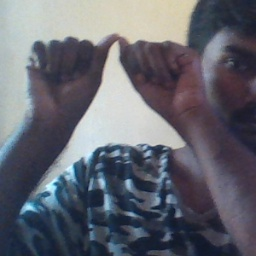A: (47, 27, 186, 111)
